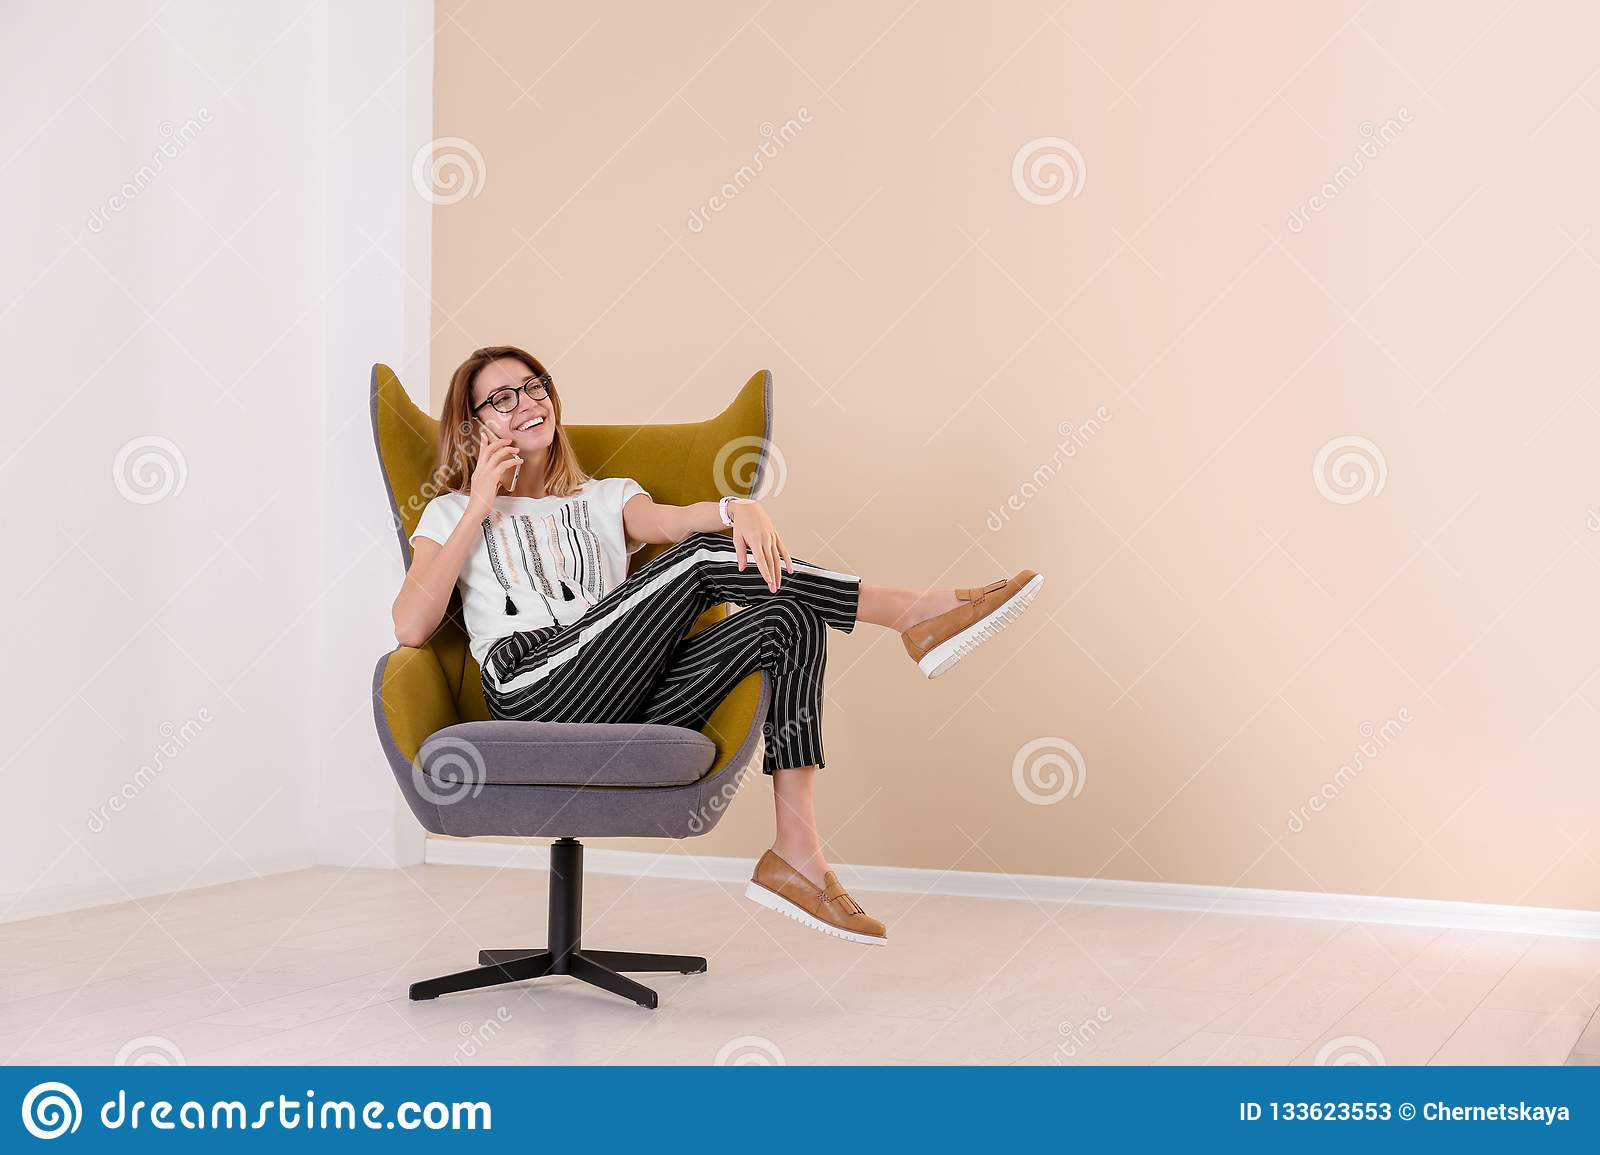phone: (470, 414, 523, 496)
talk: (468, 371, 557, 518)
